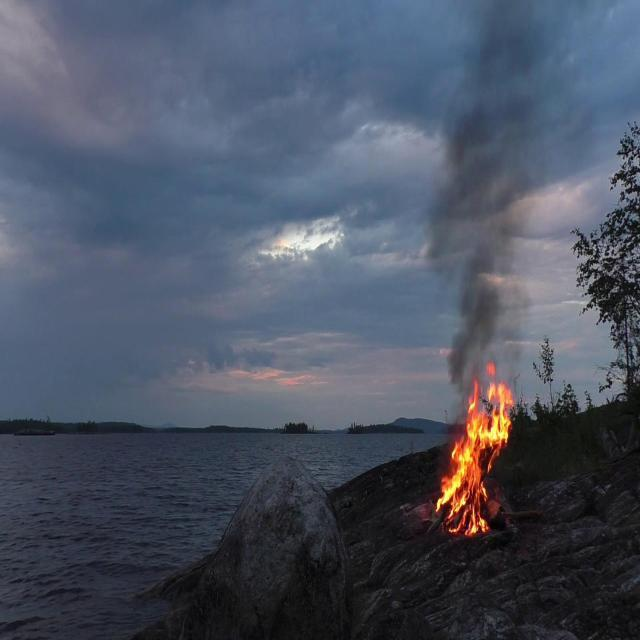Fire: (442, 369, 521, 526)
Smoke: (422, 78, 524, 357)
